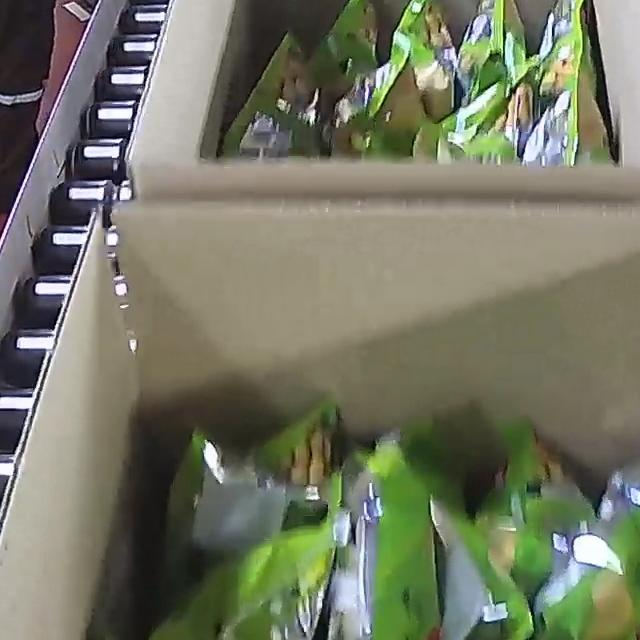yogurt: (132, 390, 640, 640), (272, 0, 640, 182)
